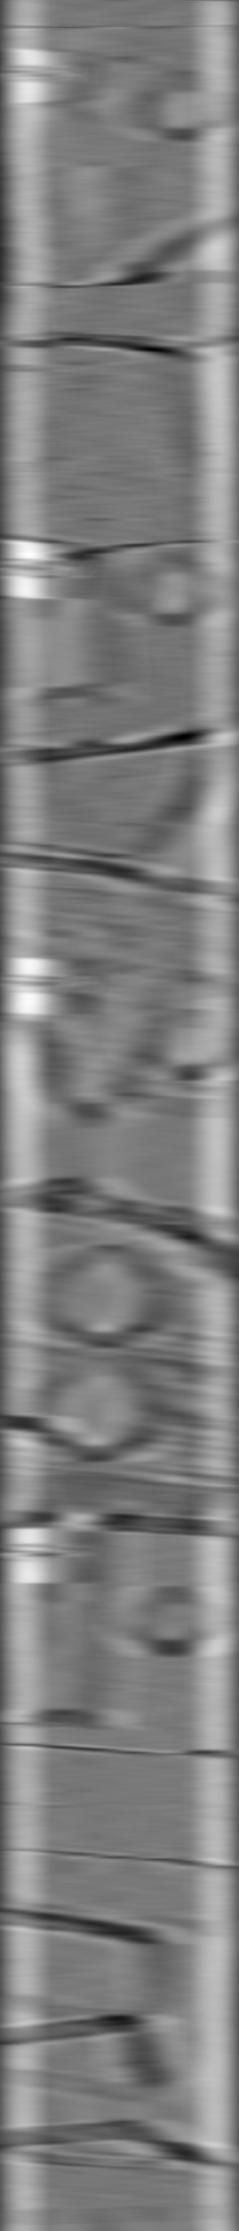hplug: (138, 997, 229, 1088), (127, 544, 218, 632), (137, 63, 229, 148), (127, 1581, 218, 1662)
scal: (38, 1241, 176, 1352), (36, 1355, 164, 1467)
vplug: (21, 1527, 115, 1737), (50, 85, 137, 283), (24, 536, 108, 723)
